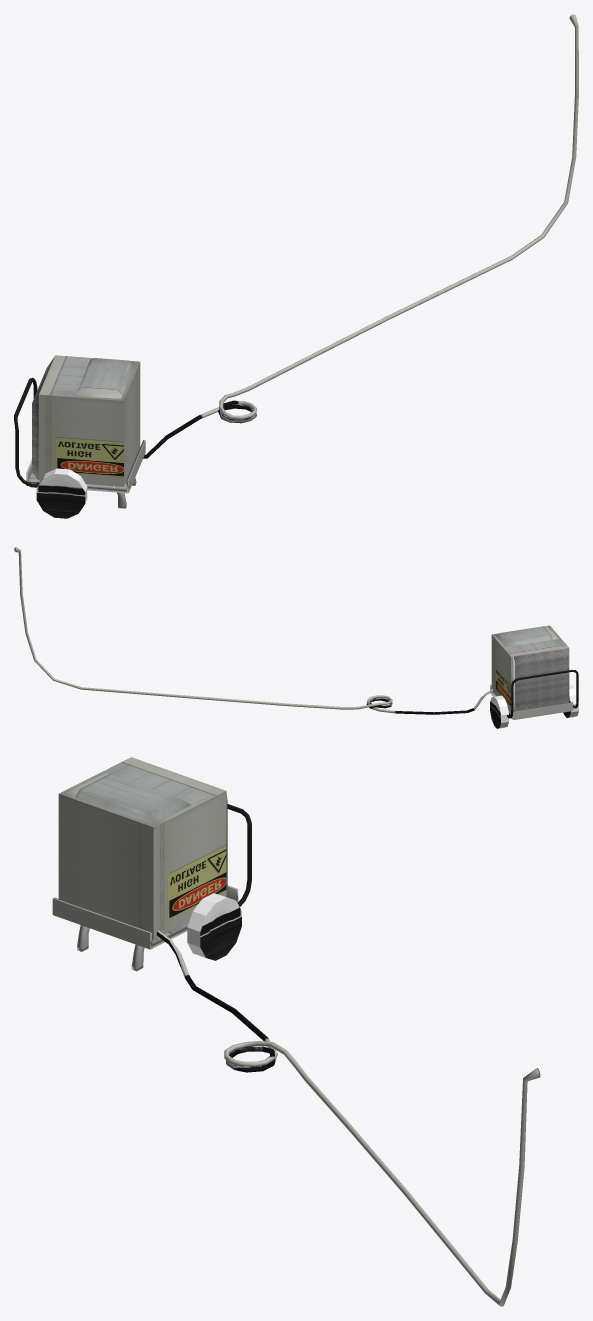
Rendered from ext-pwr-box.glb.
3 views of the same model, one above another, from view 1: azimuth 30°, elevation 25°; view 2: azimuth 150°, elevation 25°; view 3: azimuth 270°, elevation 25° (orthographic). The views are drawn at different scales.
Visible parts, largest first — view 1: box (×2), cylinder, Cylinder.008; view 2: box (×3), cylinder (×2), Cylinder.008; view 3: box (×3), cylinder, Cylinder.008.
Part boxes in pixels (x1,y1,x2,y2): box (×2): [32, 355, 140, 486]; cylinder: [143, 14, 578, 458]; Cylinder.008: [36, 468, 87, 518]; box (×3): [490, 625, 573, 719]; cylinder (×2): [14, 547, 578, 718]; Cylinder.008: [490, 685, 578, 728]; box (×3): [52, 757, 238, 949]; cylinder: [156, 930, 540, 1306]; Cylinder.008: [187, 893, 241, 960].
Bounding box in the file's own units: 10.4 × 2.99 × 4.72.
Materials: 2 (2 with a texture image).
